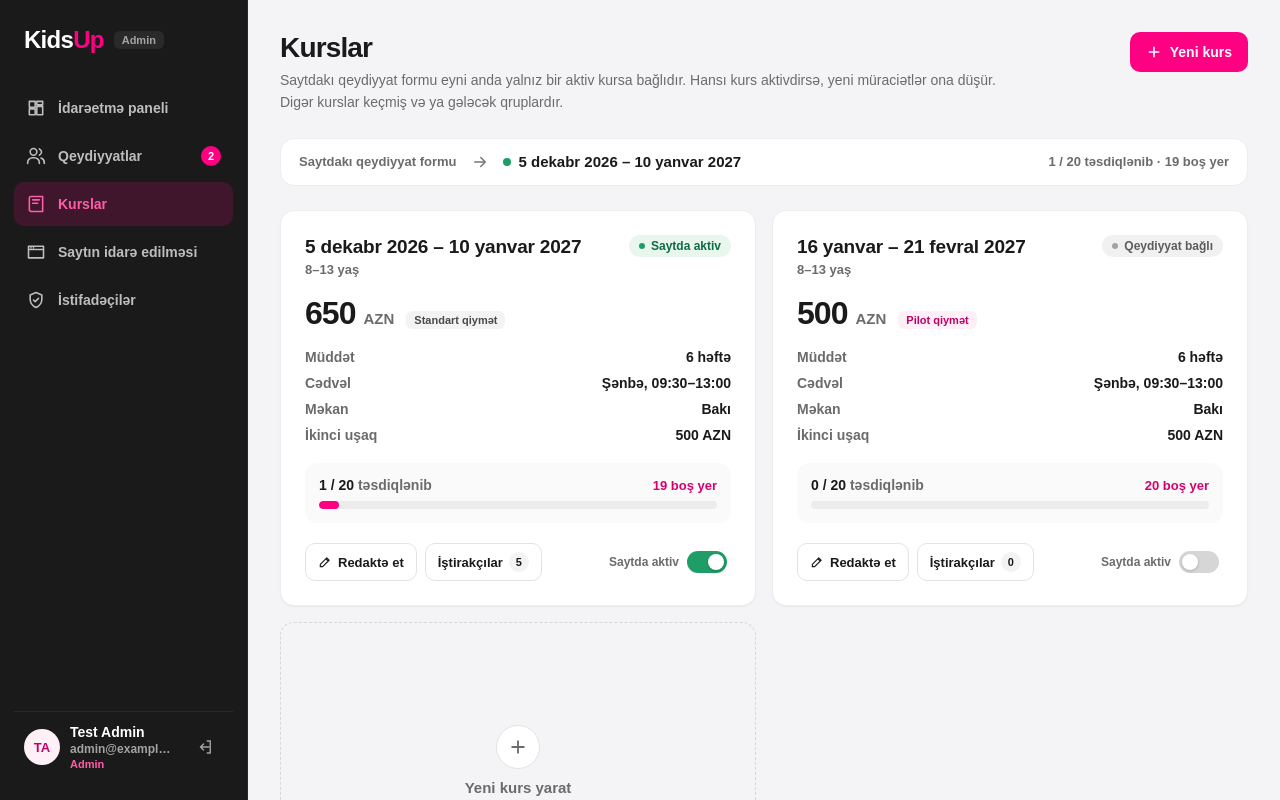
tying the form to a course › opens the new course first and closes the other after it, so the form is never without one
Expected: the navigation bar named "Admin menyu" is shown, top-left (14, 86), bottom-right (233, 322)
Expected: the heading "Kurslar" is shown, top-left (280, 32), bottom-right (372, 63)
Click the switch labelled "Saytda aktiv" below "20 boş yer" at (1158, 562), box top-left (1093, 543), bottom-right (1223, 581)
(page scrolled)
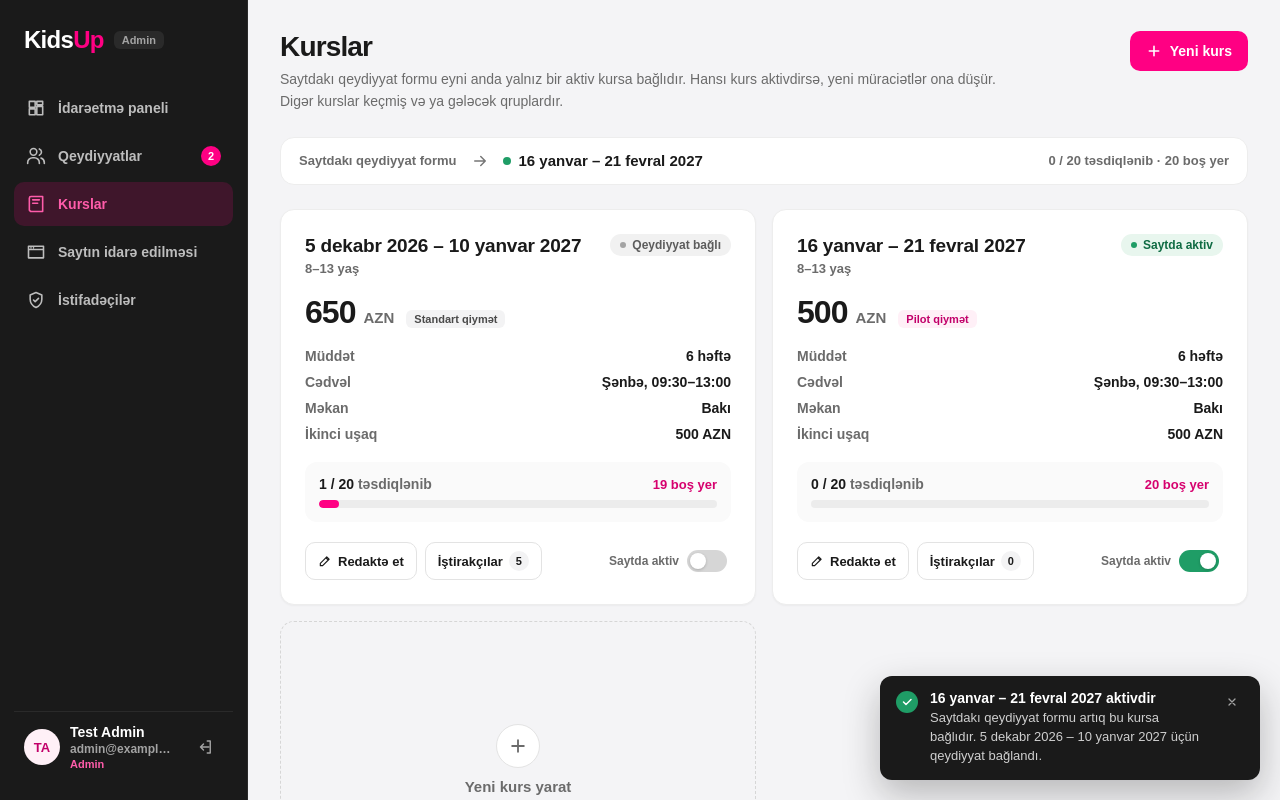
Now the switch labelled "Saytda aktiv" below "Pilot qiymət" is checked, box top-left (1093, 542), bottom-right (1223, 580)
Now the text "16 yanvar – 21 fevral 2027 aktivdir" is shown, box top-left (930, 690), bottom-right (1156, 706)
Now the text "5 dekabr 2026 – 10 yanvar 2027 üçün qeydiyyat bağlandı" is shown, box top-left (930, 710), bottom-right (1199, 763)
